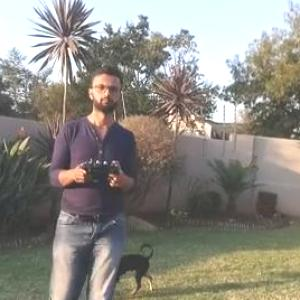follow: (42, 59, 136, 299)
null: (118, 241, 156, 294)
